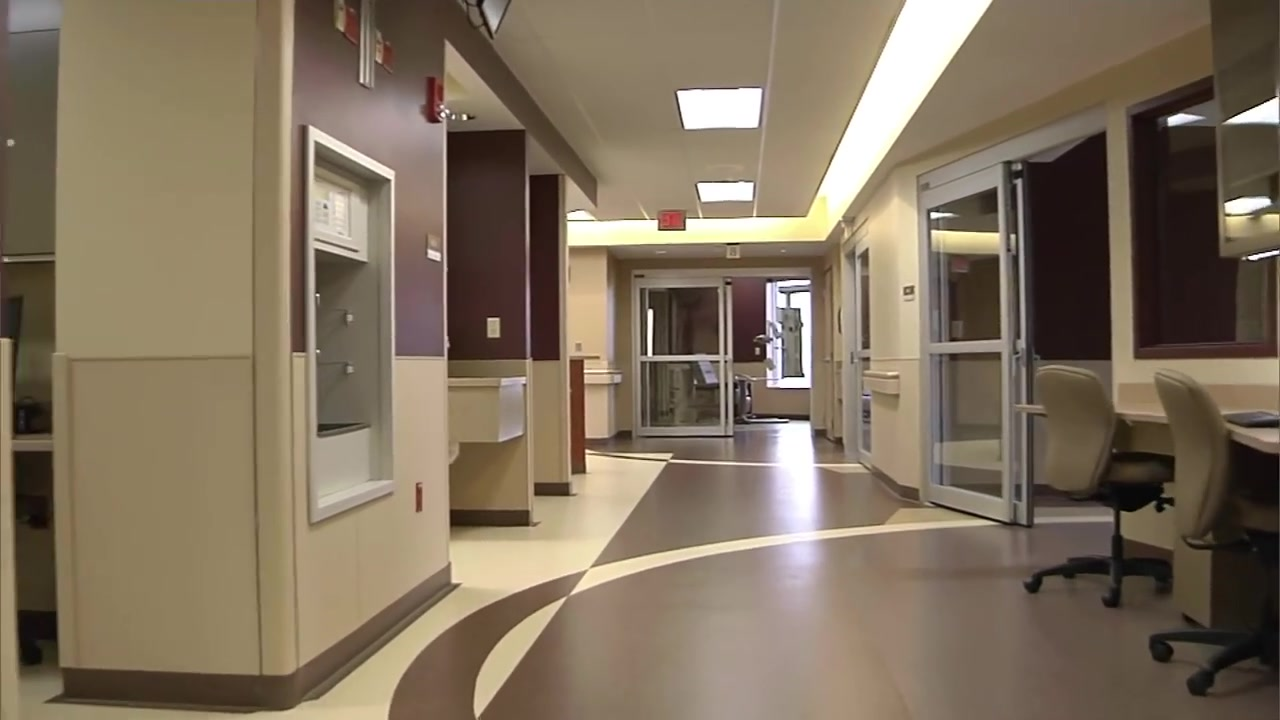TV: (473, 1, 514, 40)
chair: (1149, 368, 1280, 696), (1022, 364, 1172, 608)
countertop: (1013, 403, 1280, 453)
door_handle: (1011, 347, 1026, 377)
hallway_assist_bar: (585, 367, 626, 378), (864, 369, 900, 379)
keyboard: (1223, 411, 1280, 428)
overbed_table: (724, 384, 773, 427)
sink: (442, 375, 527, 447)
sofa: (675, 359, 735, 426)
